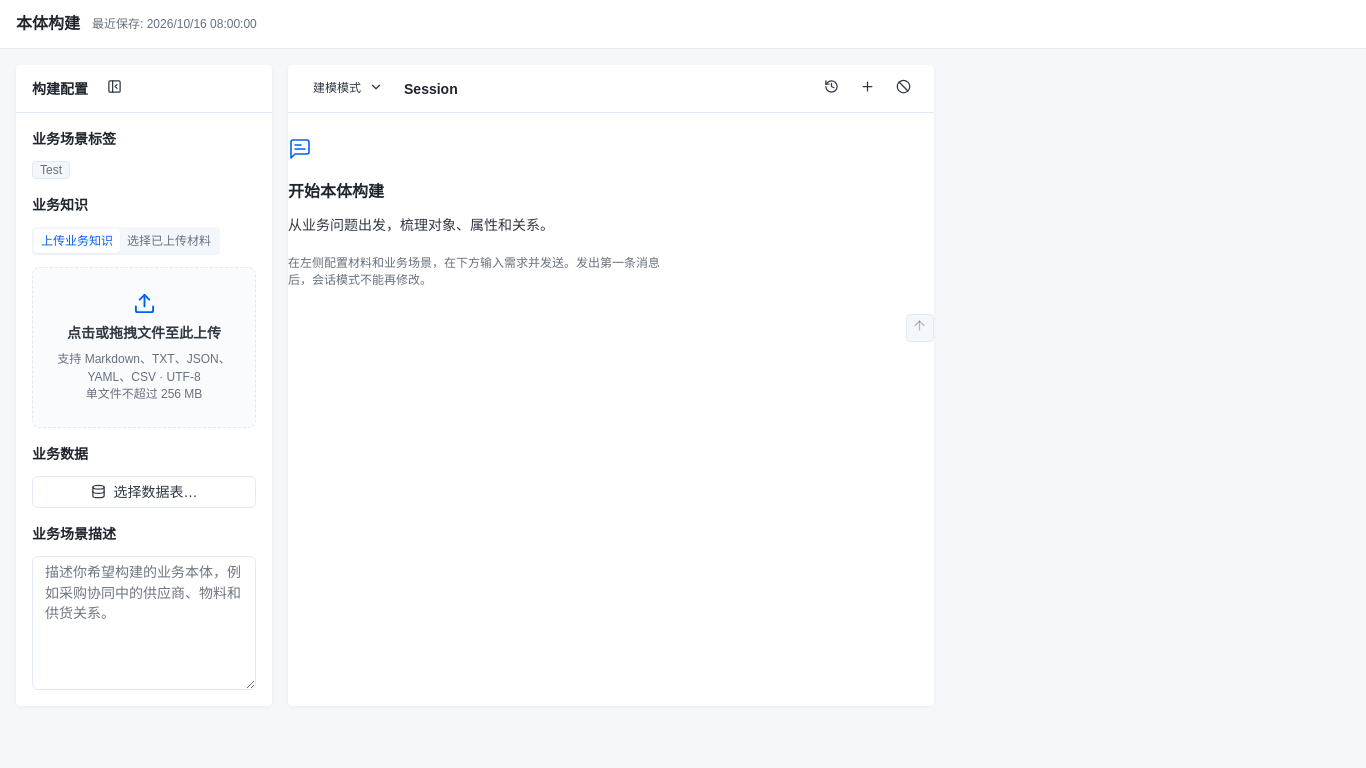
Scenario: preserves a scenario while toggling the configuration panel
The width and height of the screenshot is (1366, 768).
Type "星河采购协同" into the text box labelled "业务场景描述" at (144, 623), box top-left (32, 556), bottom-right (256, 690)
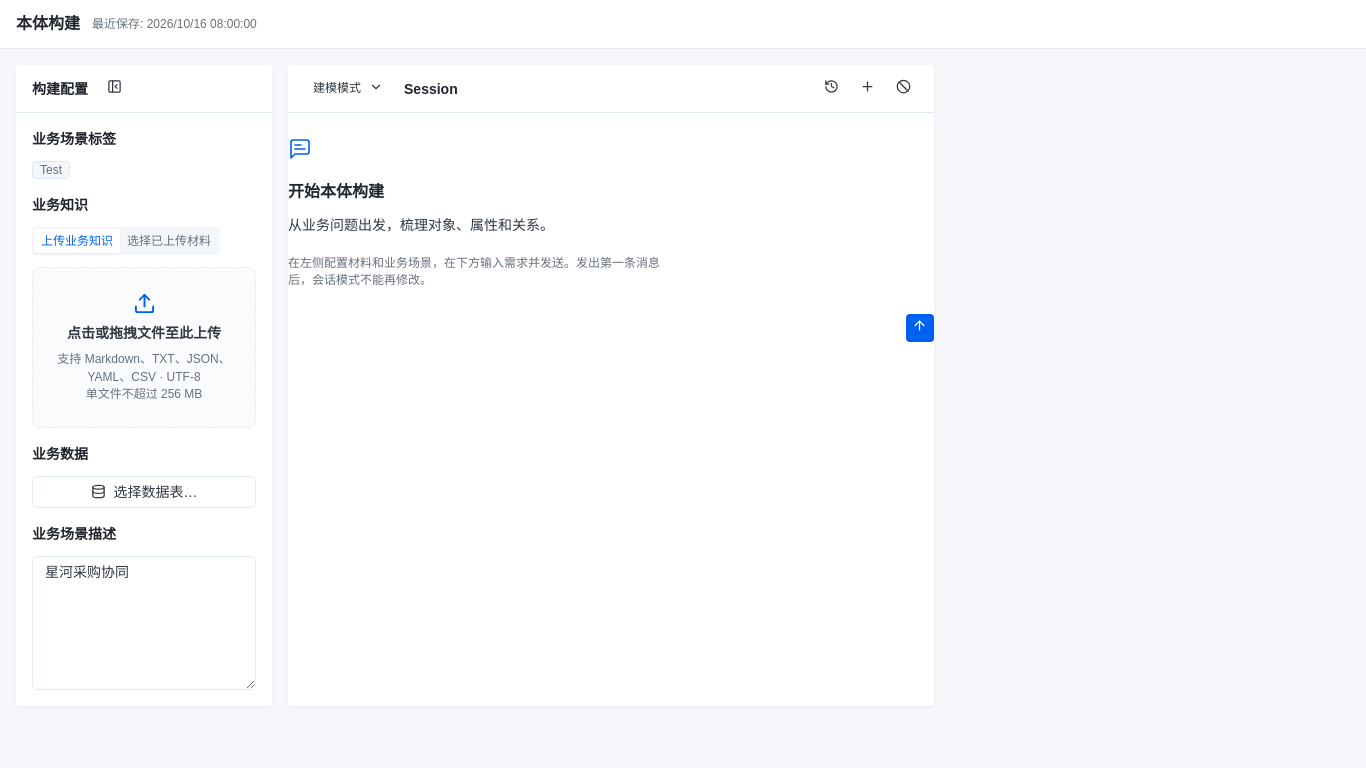
Click the button named "收起构建配置" at (114, 88), box top-left (100, 74), bottom-right (128, 102)
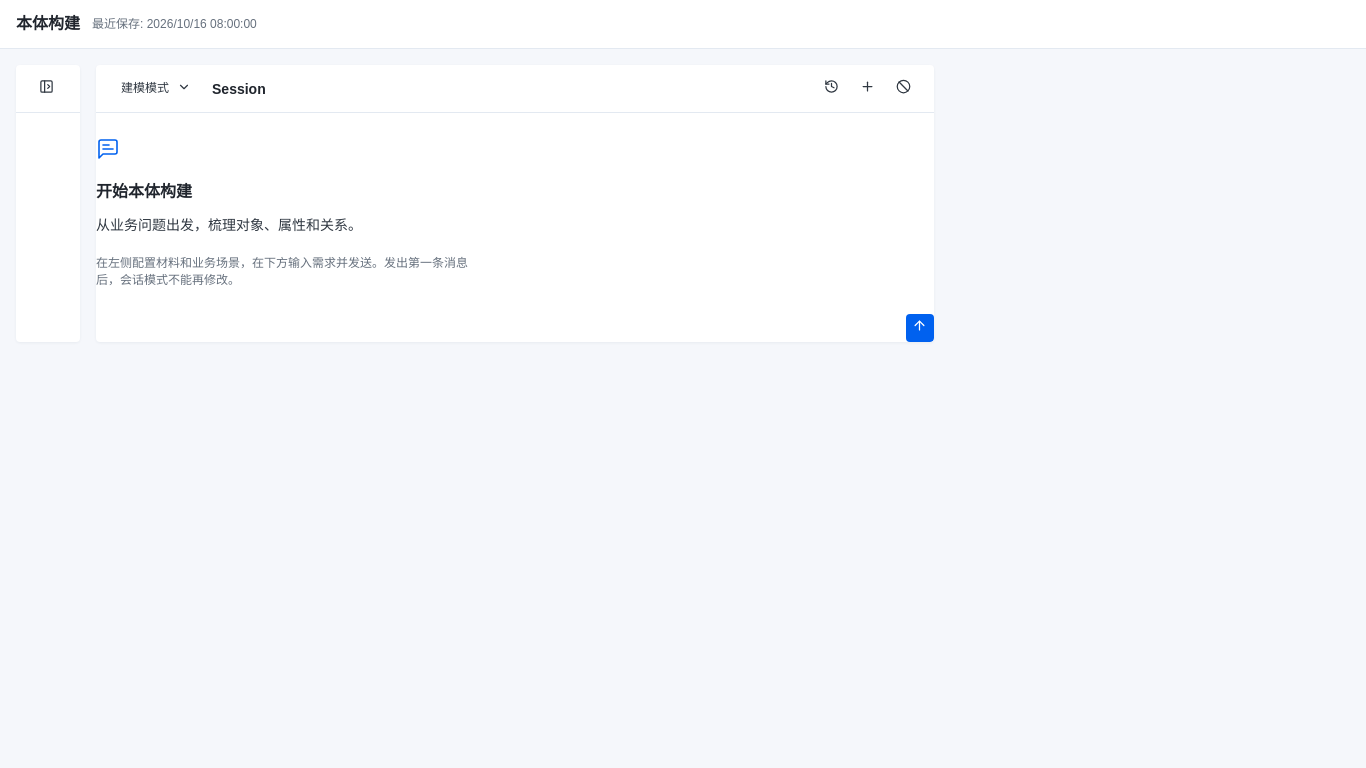
Expected: the label "业务场景描述" is gone
Click the button named "展开构建配置" at (46, 88), box top-left (32, 74), bottom-right (60, 102)
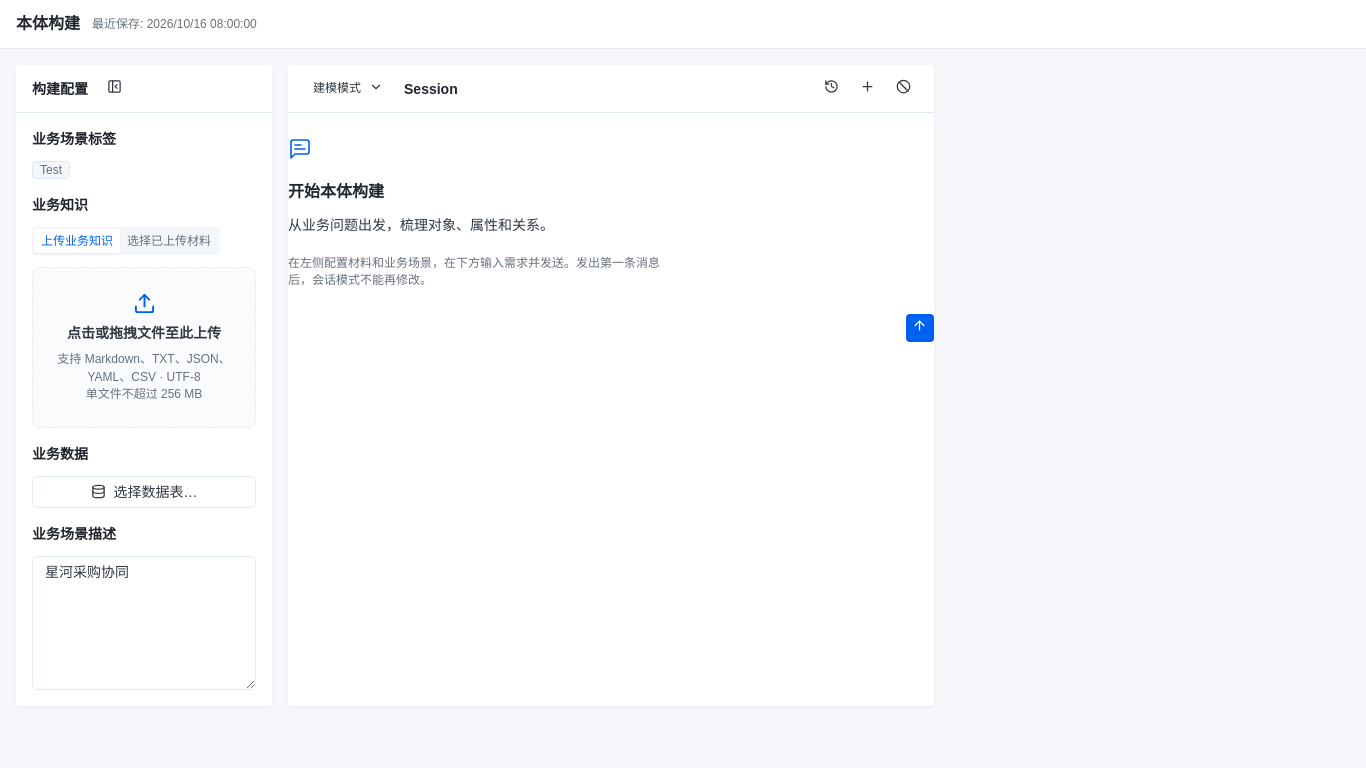
Expected: the button named "发送" is enabled, top-left (906, 314), bottom-right (934, 342)
Expected: the text box labelled "业务场景描述" holds "星河采购协同", top-left (32, 556), bottom-right (256, 690)
